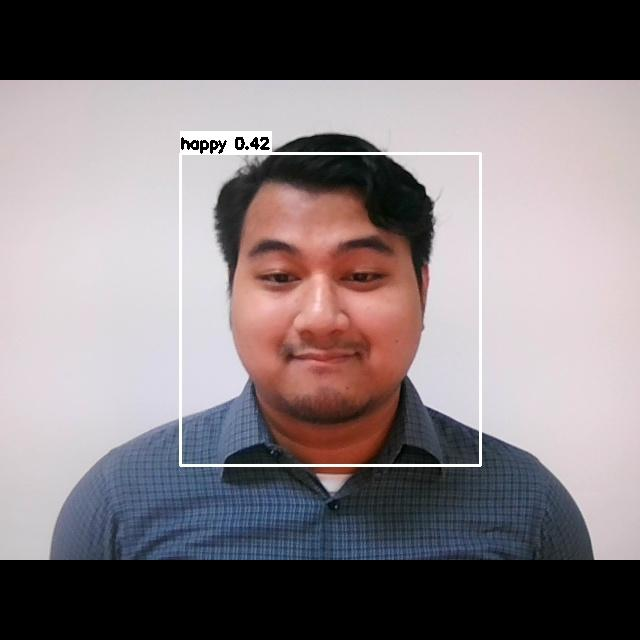Happy: (235, 224, 415, 399)
